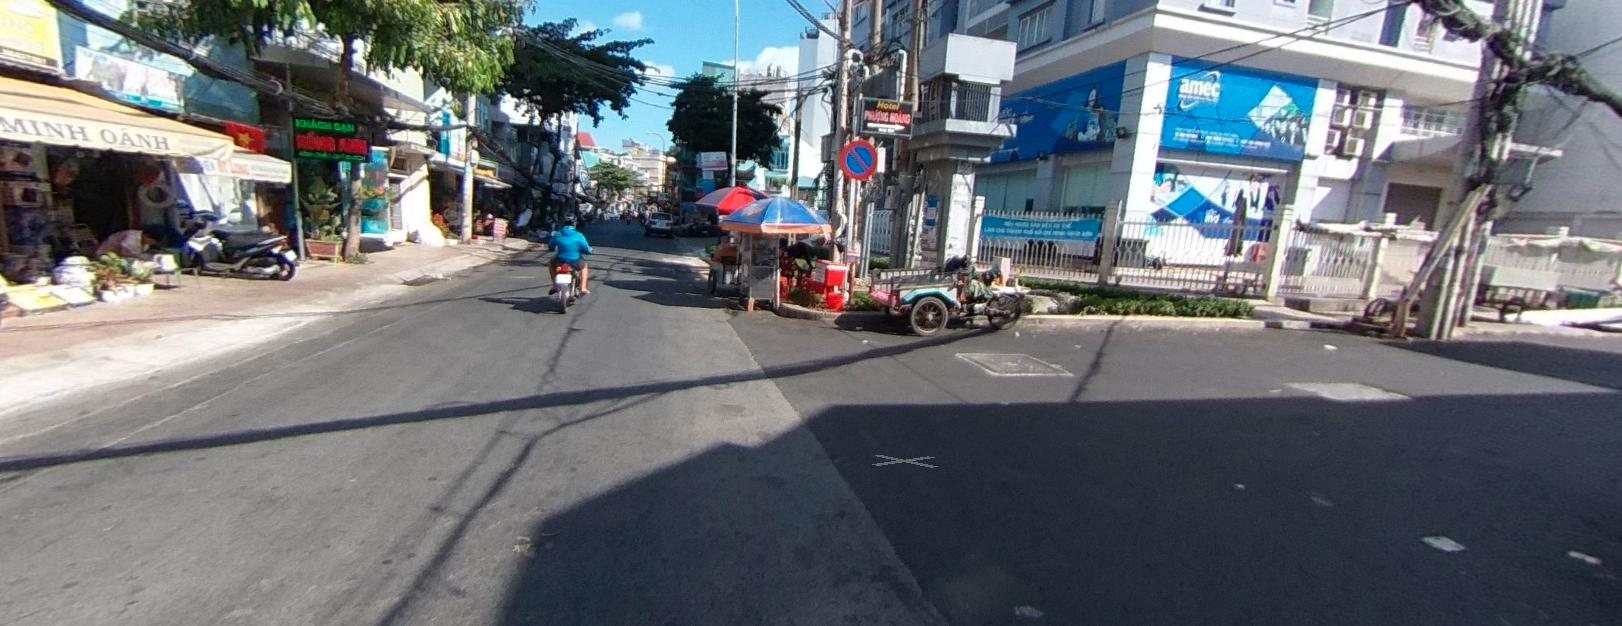Cam dung va do: (838, 140, 877, 179)
